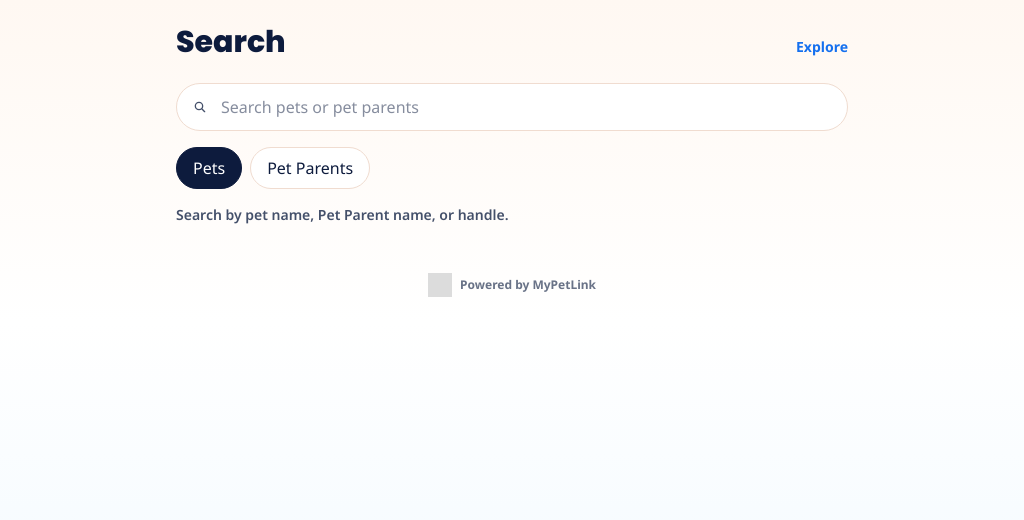
it: SocialSearchView › shows matching pet parents on their own tab
The image size is (1024, 520).
Type "moch" into the search field labelled "Search pets or pet parents" at {"x": 512, "y": 107}, box [176,83,848,131]
Wait 600 ms
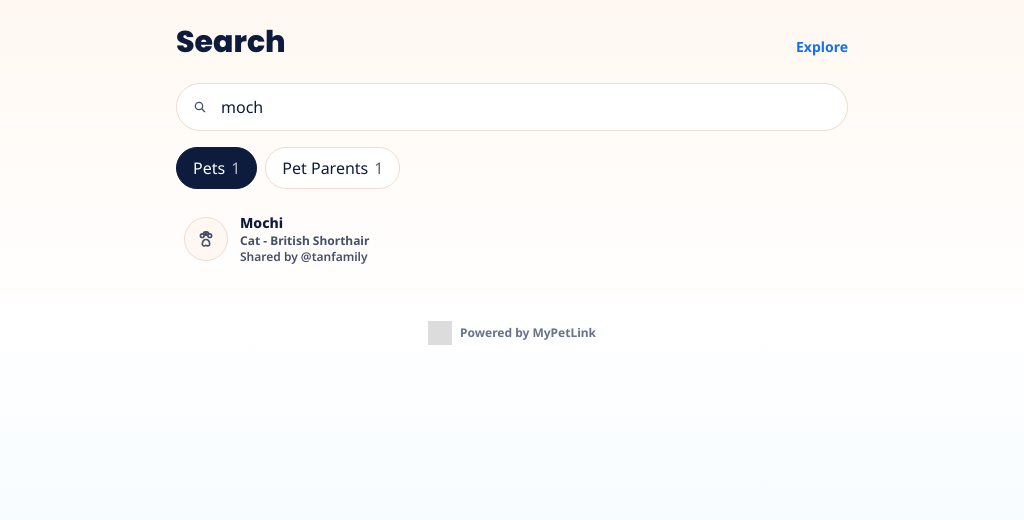
Result: the list with test id "search-pets" is shown at [184,213,369,265]
Click the button "Pet Parents 1" at {"x": 333, "y": 168}, box [265,147,400,189]
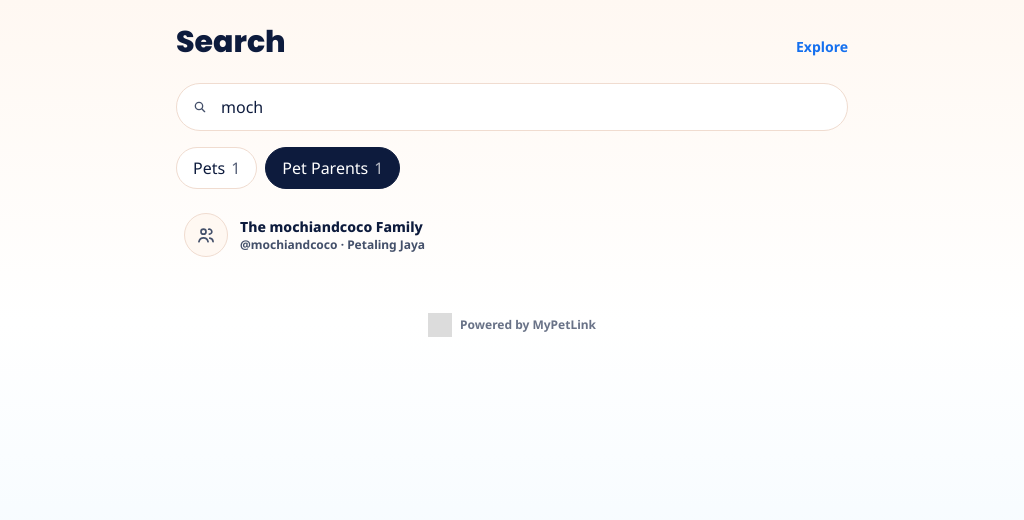
Result: the text "@mochiandcoco · Petaling Jaya" is shown at [240,236,425,253]
